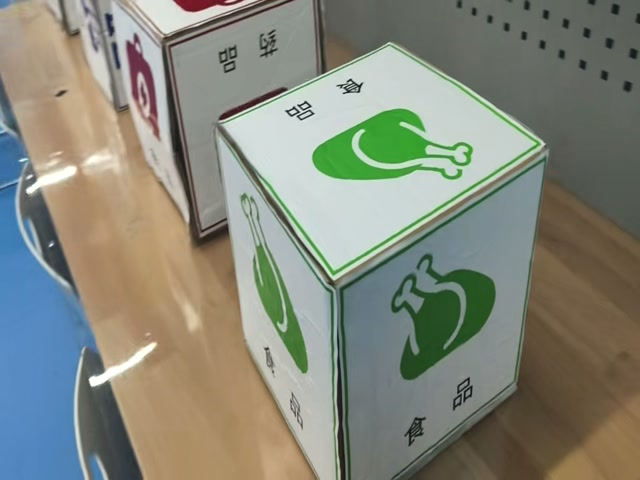Cube_food: (217, 56, 550, 296)
